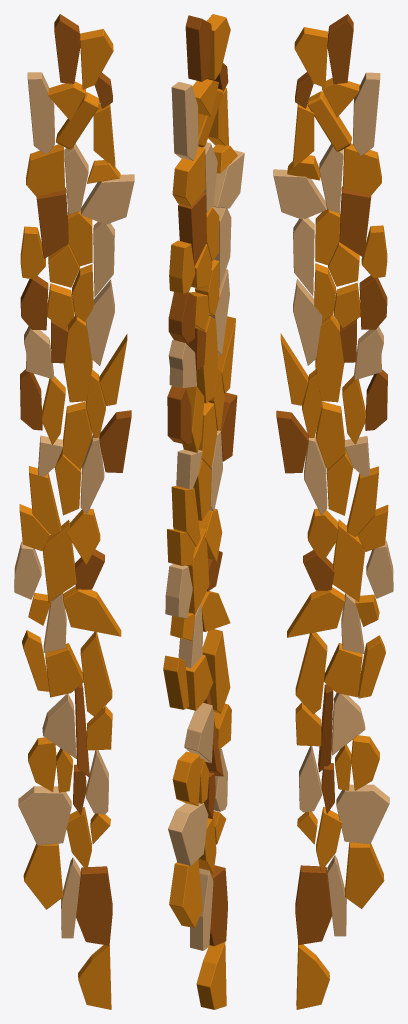
The model's file is Muro2.fbx.
3 views of the same model, side by side, from view 1: azimuth 90°, elevation 25°; view 2: azimuth 150°, elevation 25°; view 3: azimuth 270°, elevation 25° (orthographic).
Visible parts, largest first — view 1: Piedrote.094; view 2: Piedrote.094; view 3: Piedrote.094.
Part boxes in pixels (<box>): Piedrote.094: <box>14,14,134,1009</box>; Piedrote.094: <box>163,14,244,1009</box>; Piedrote.094: <box>273,14,393,1009</box>.
Bounding box in the file's own units: 90.56 × 3122 × 344.
